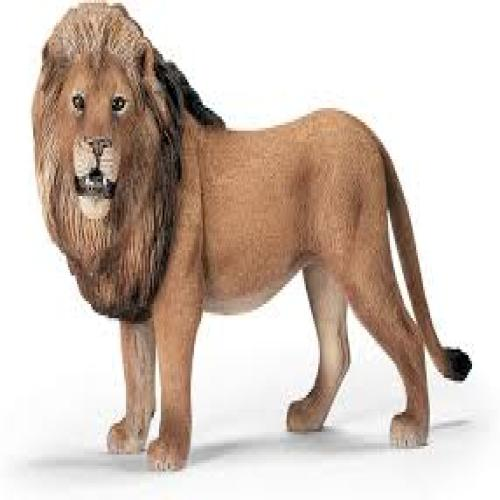lion-endangered: (30, 0, 470, 469)
